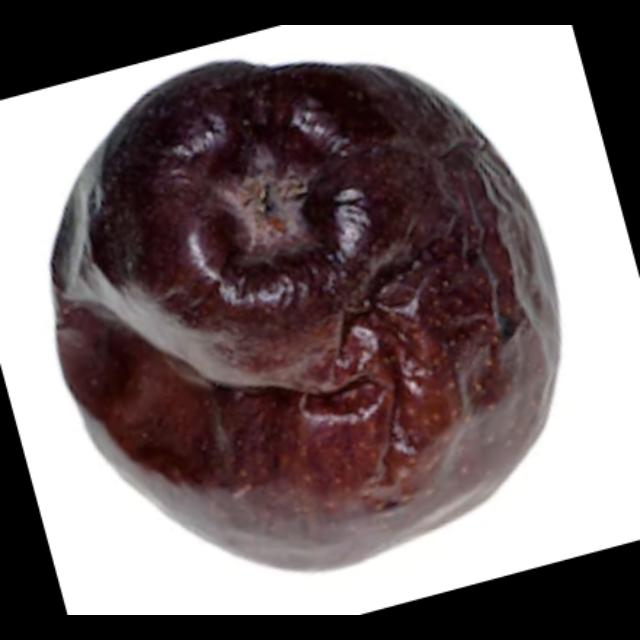Apel Tidak Segar: (46, 52, 568, 578)
